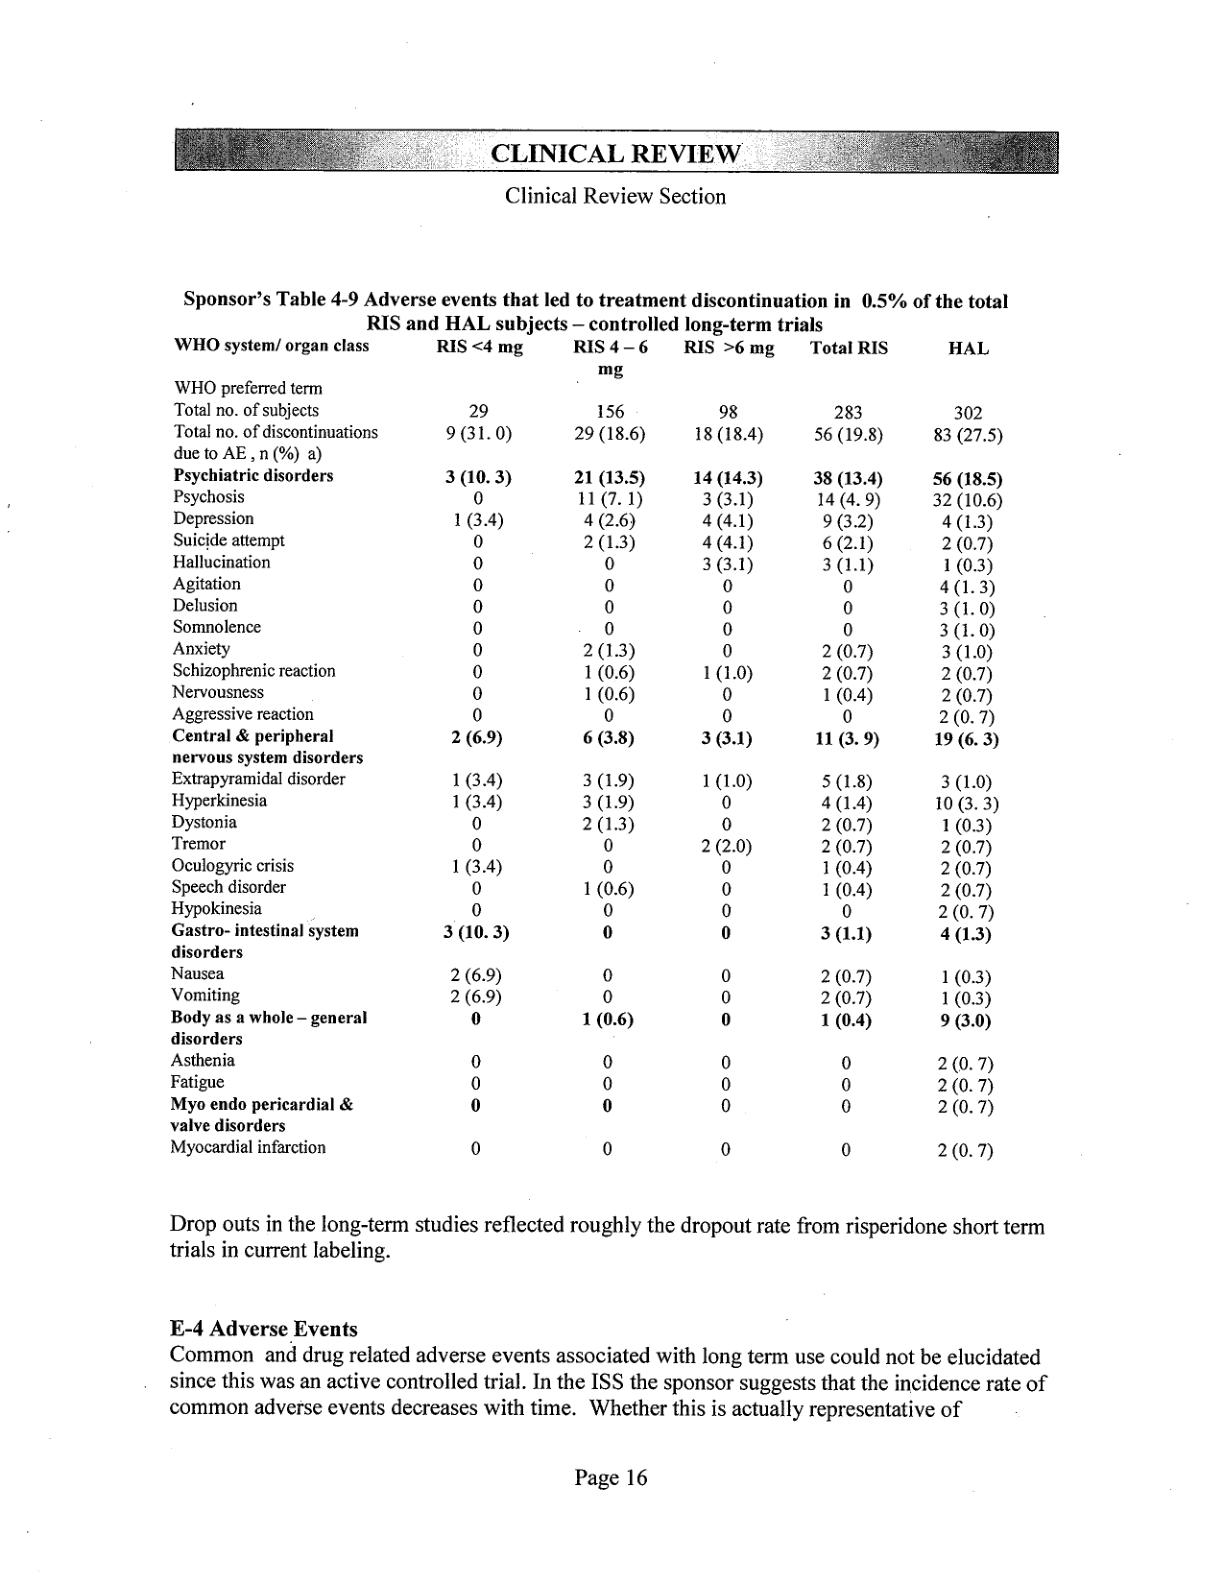nolines: (172, 334, 1005, 1160)
